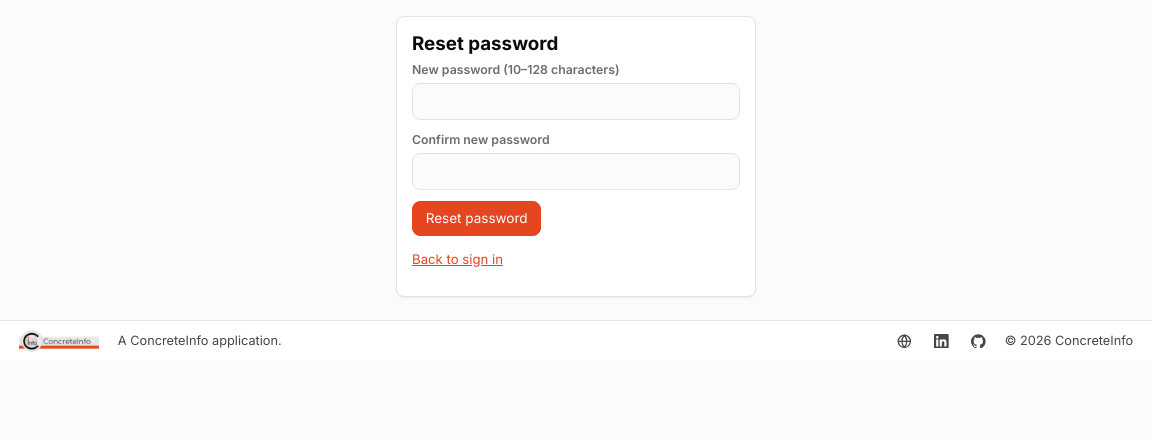
Test case: ResetPasswordPage › rejects a password shorter than 10 characters
In the password field labelled "New password (10–128 characters)": [576, 102] box [412, 83, 740, 120], type "short"
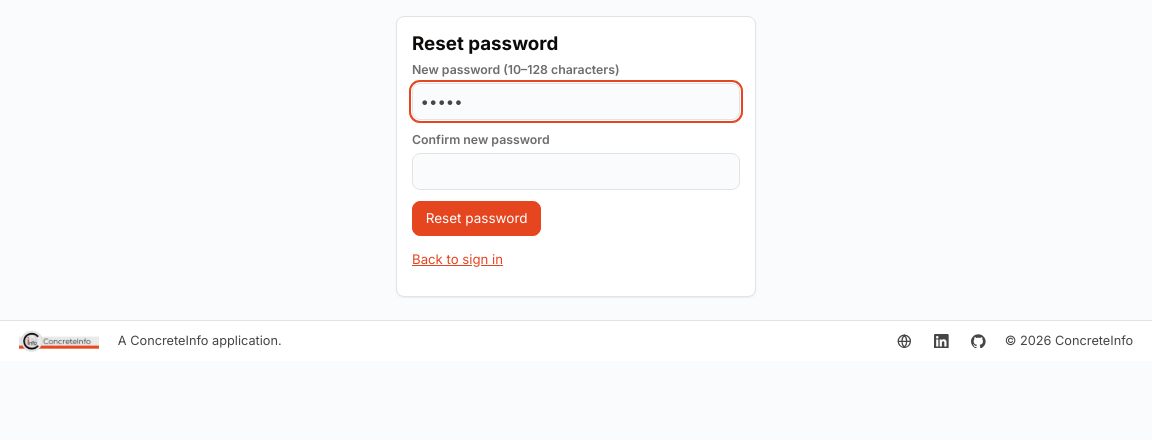
In the password field labelled "Confirm new password": [576, 172] box [412, 153, 740, 190], type "short"
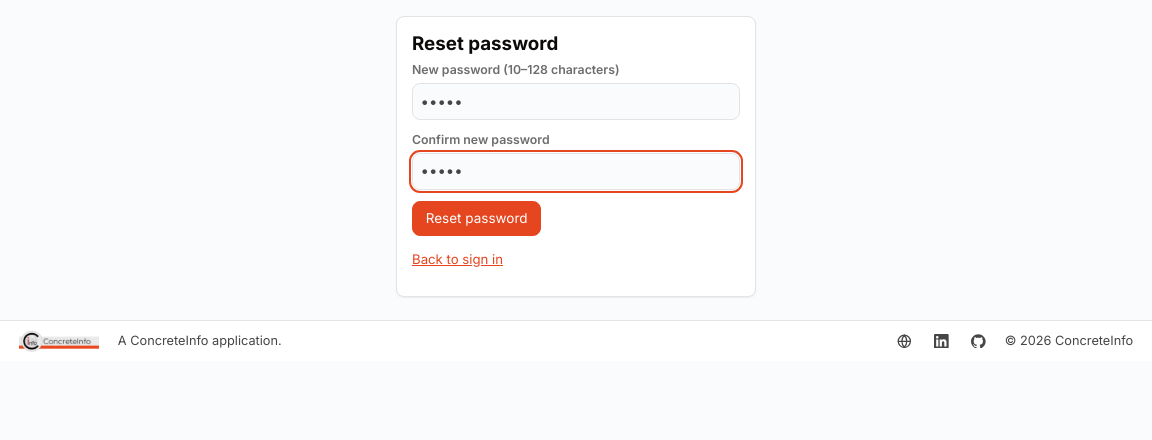
Click the button "Reset password": [477, 219] box [412, 201, 541, 236]
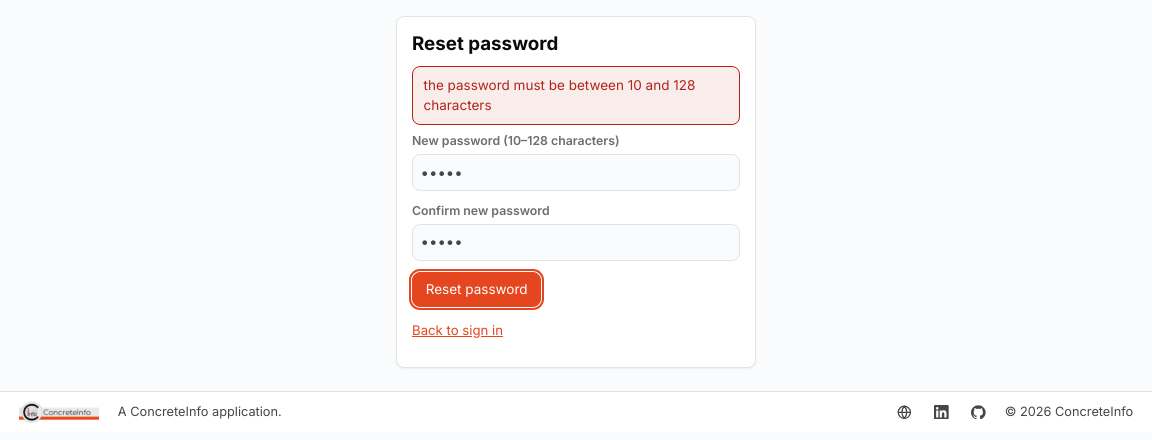
Now the message shows "10 and 128", box [424, 77, 695, 113]
